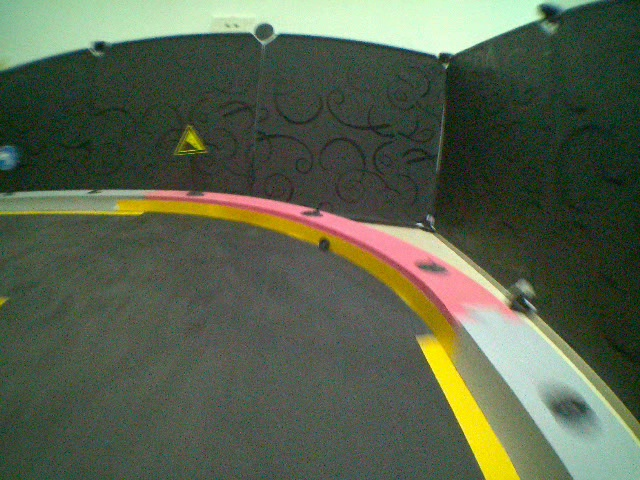fast: (171, 122, 212, 157)
